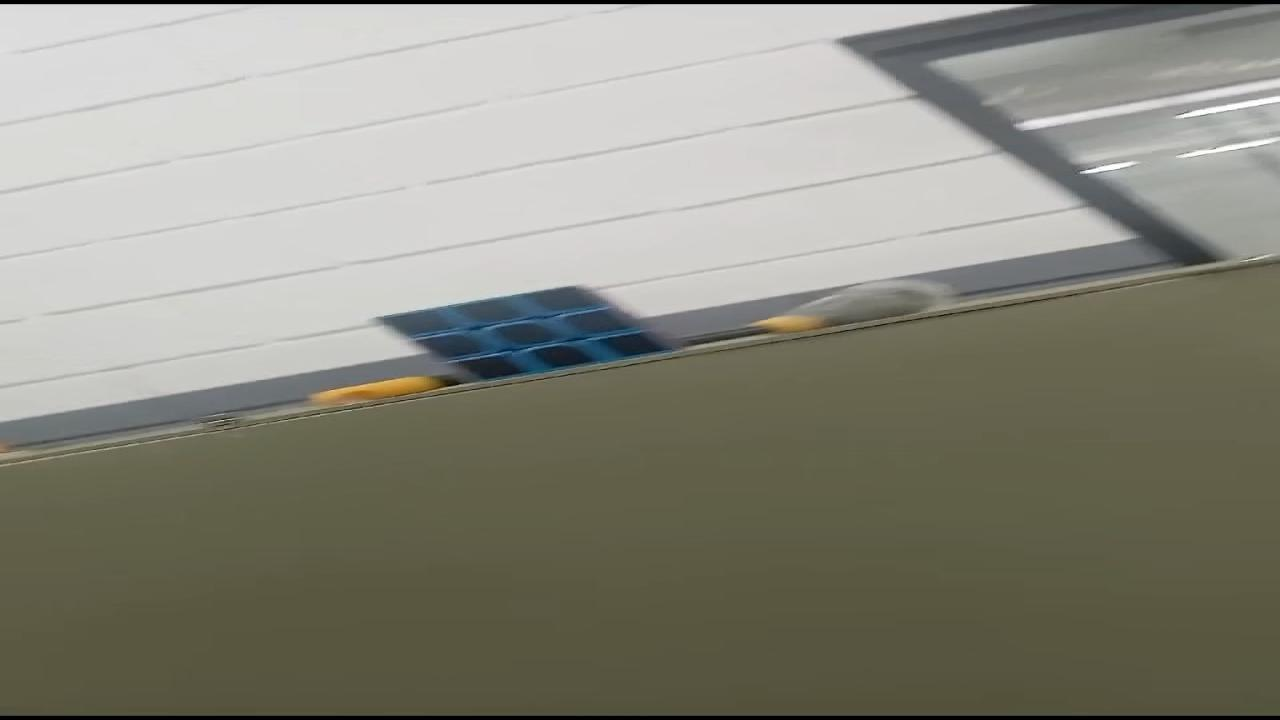Cube: (373, 281, 690, 381)
